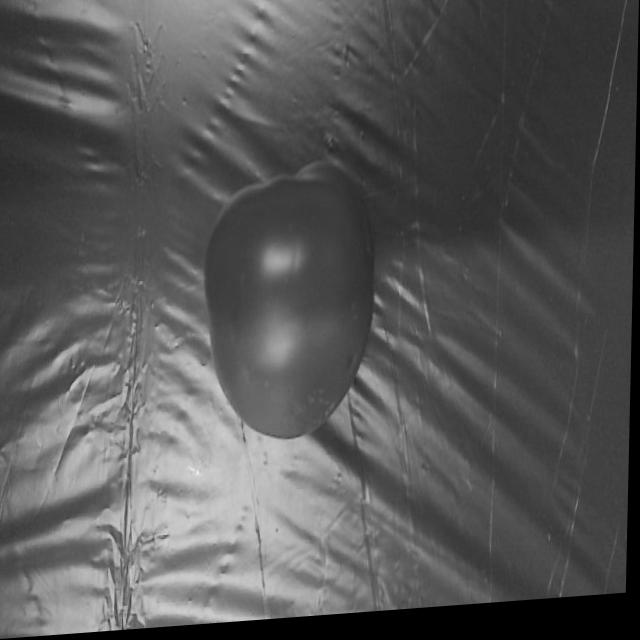kirmizi: (172, 154, 394, 464)
